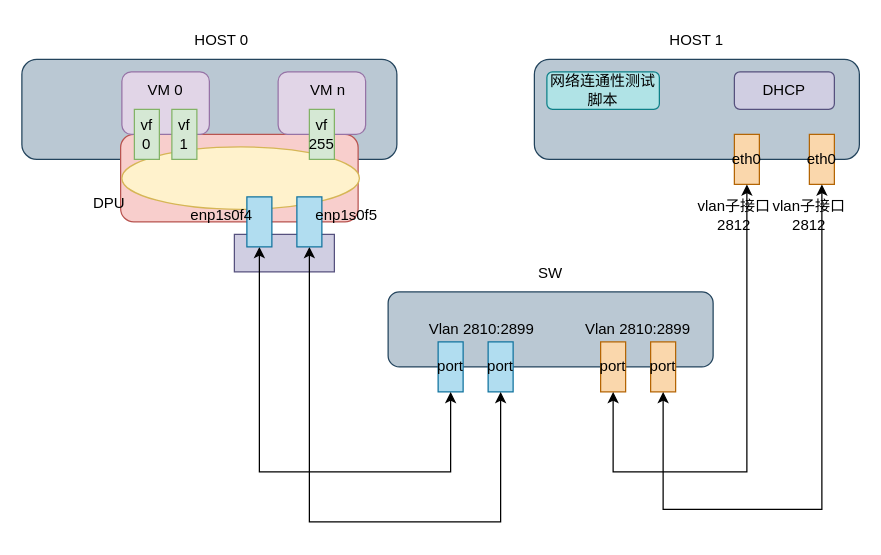
Some shapes in this 881 by 555 pixel diagram are drawn without their labels. Here are the shapes that lost their labels. From the top down, the centre of each, then its label:
At point 240,177: "OVS".
At point 283,252: "bond4".
